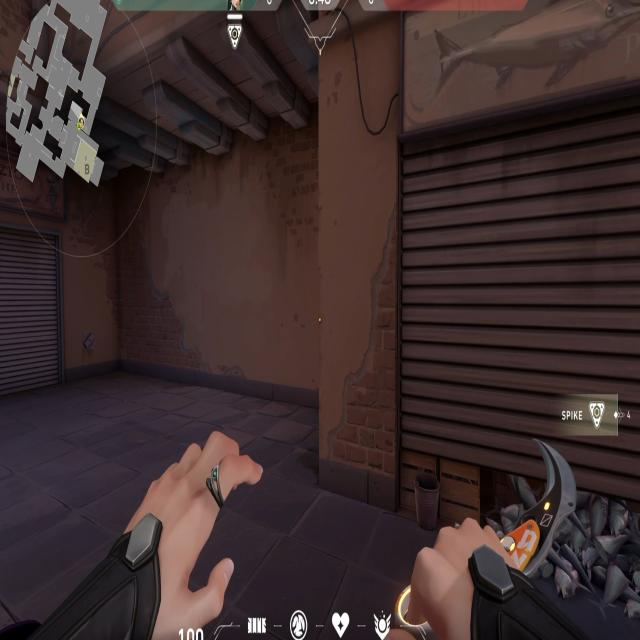B_Main_Corner: (275, 7, 634, 546)
